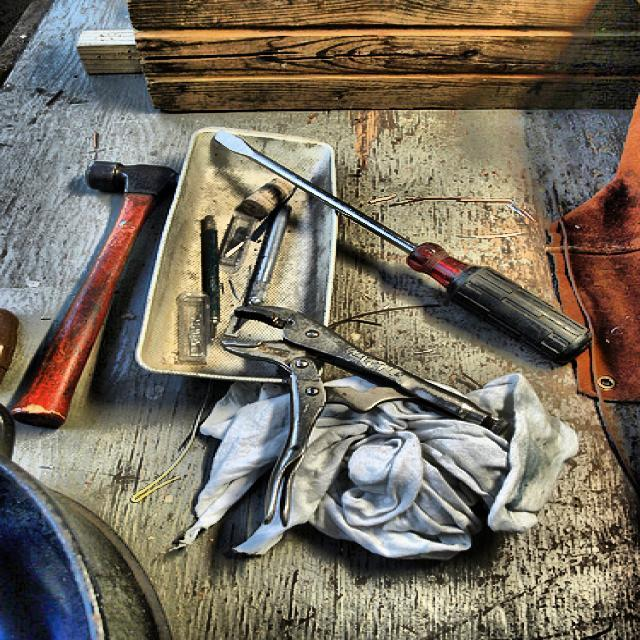screwdriver: (212, 132, 588, 360)
